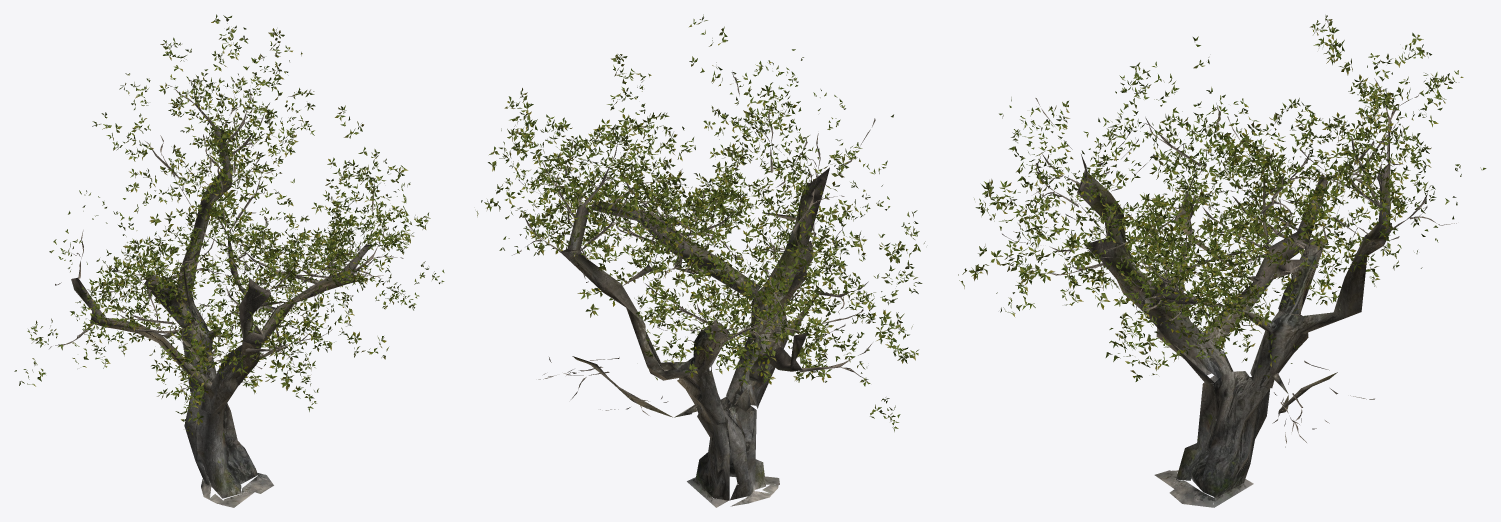
Rendered from street-tree-island-v249.glb.
The picture shows the model from 3 angles, left to right: view 1: azimuth 30°, elevation 25°; view 2: azimuth 150°, elevation 25°; view 3: azimuth 270°, elevation 25°; orthographic projection. The views are drawn at different scales.
Parts seen in each view (by area): view 1: island_tree_01_LOD0; view 2: island_tree_01_LOD0; view 3: island_tree_01_LOD0.
Part boxes in pixels (x1,y1,x2,y2): island_tree_01_LOD0: [14, 14, 444, 507]; island_tree_01_LOD0: [476, 14, 925, 507]; island_tree_01_LOD0: [958, 15, 1486, 507].
Bounding box in the file's own units: 4.71 × 4.99 × 4.79.
Materials: 3 (3 with a texture image).
